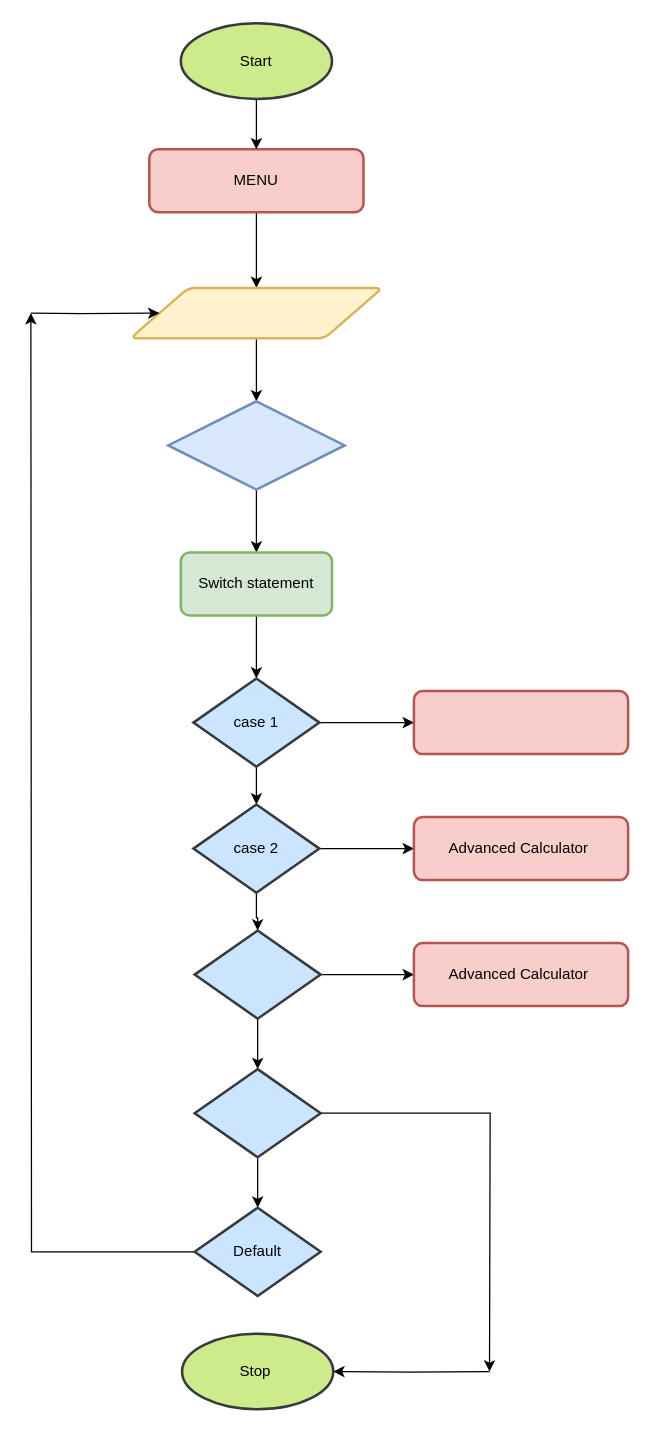
The diagram is 651 pixels wide and 1431 high, and some of its shapes have lost their labels. The shapes that lost their labels are listed below. From the top down, each one's centre as x and y in pixels, then its label:
the point at 256,312: Mode Selection
the point at 255,444: Whlie loop
the point at 520,722: Simple Calculator
the point at 257,974: case 3
the point at 257,1112: case 0
